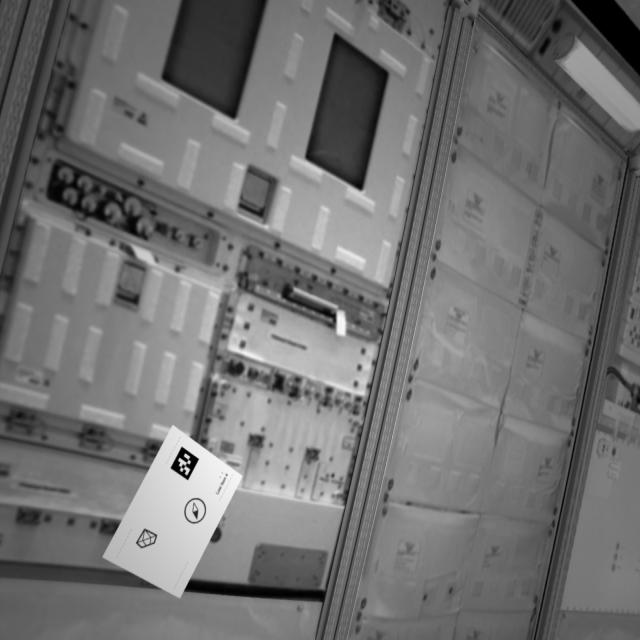compass: (183, 494, 209, 531)
diamond: (136, 526, 161, 553)
